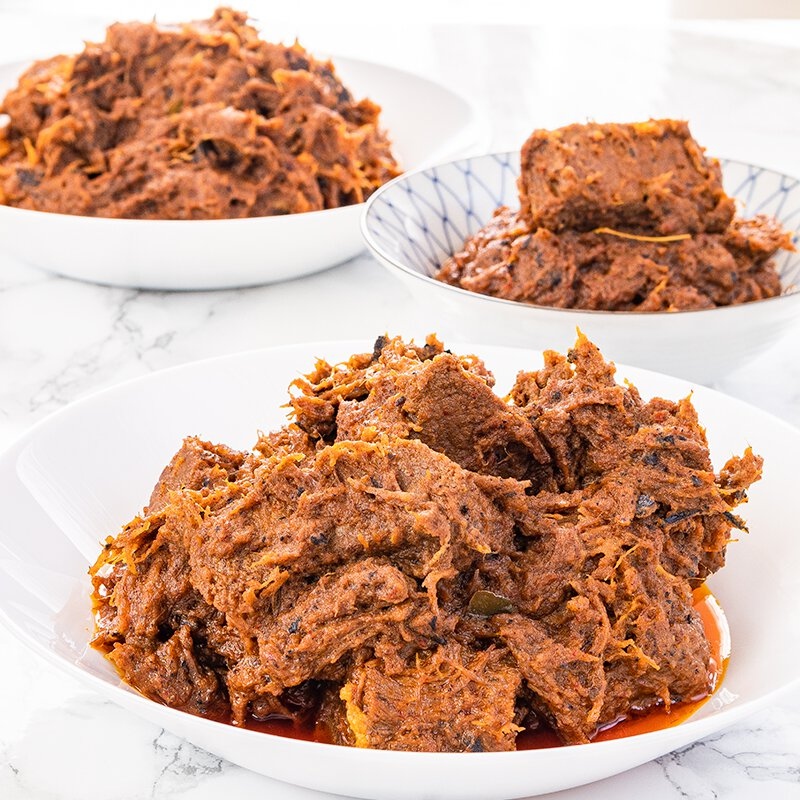rendang: (84, 325, 785, 755), (6, 4, 388, 237), (439, 86, 781, 301)
